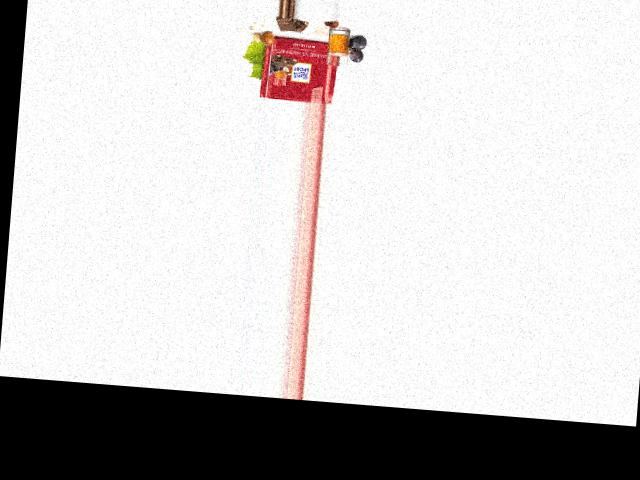chocolate: (257, 35, 337, 103)
